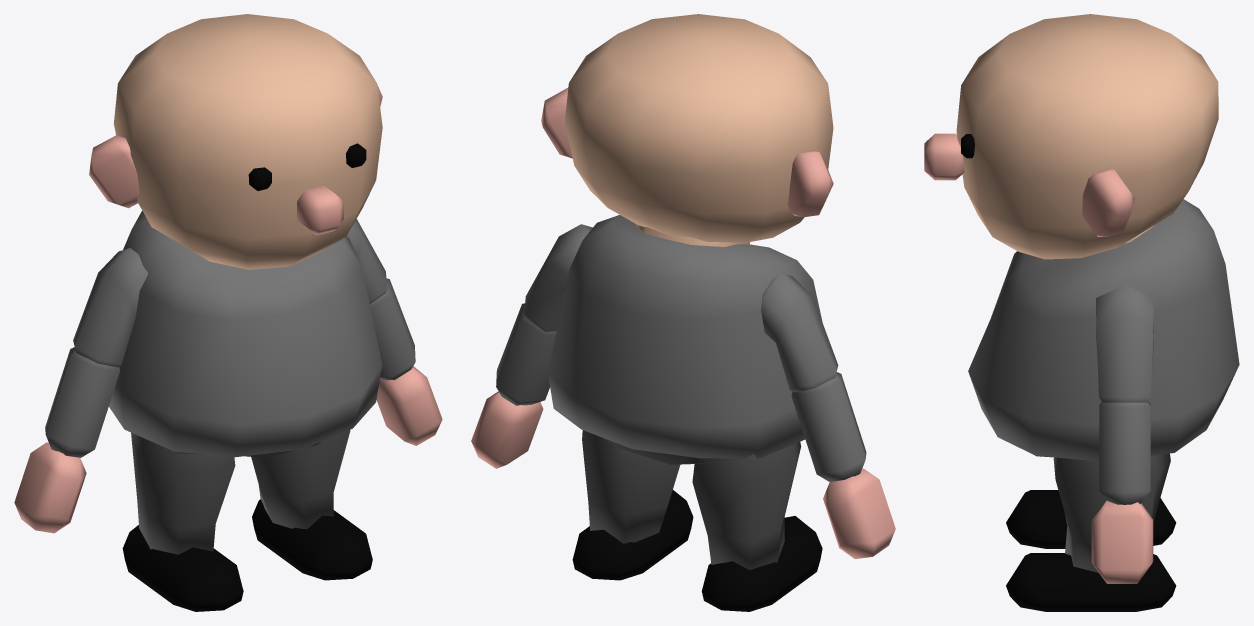
File: CHAR_01.fbx
The picture shows the model from 3 angles, left to right: view 1: azimuth 30°, elevation 25°; view 2: azimuth 150°, elevation 25°; view 3: azimuth 270°, elevation 25°; orthographic projection.
Parts seen in each view (by area): view 1: m_tete, m_tronc, m_jambe_D, m_jambe_G, m_pied_D, m_pied_G, m_bras_D, m_avantbras_D, m_main_D, m_main_G, m_avantbras_G, m_oreille_D (+2 smaller); view 2: m_tete, m_tronc, m_jambe_D, m_jambe_G, m_bras_D, m_pied_D, m_avantbras_D, m_pied_G, m_main_D, m_avantbras_G, m_main_G, m_bras_G (+4 smaller); view 3: m_tete, m_tronc, m_pied_G, m_bras_G, m_avantbras_G, m_jambe_G, m_main_G, m_pied_D, m_oreille_G, m_nez.
Boxes of the visible parts, box(x1,y1,x2,y2) form: m_tete: box(113, 14, 382, 269); m_tronc: box(109, 211, 382, 457); m_jambe_D: box(131, 432, 235, 554); m_jambe_G: box(251, 430, 350, 528); m_pied_D: box(122, 525, 243, 611); m_pied_G: box(252, 499, 372, 580); m_bras_D: box(73, 248, 147, 367); m_avantbras_D: box(45, 347, 119, 457); m_main_D: box(14, 442, 86, 533); m_main_G: box(376, 366, 442, 445); m_avantbras_G: box(370, 278, 415, 380); m_oreille_D: box(89, 135, 139, 208); m_tete: box(564, 14, 833, 242); m_tronc: box(548, 215, 822, 458); m_jambe_D: box(692, 442, 801, 570); m_jambe_G: box(582, 430, 680, 543); m_bras_D: box(761, 273, 838, 392); m_pied_D: box(701, 516, 822, 611); m_avantbras_D: box(791, 372, 866, 481); m_pied_G: box(572, 490, 693, 580); m_main_D: box(823, 468, 895, 558); m_avantbras_G: box(496, 303, 556, 405); m_main_G: box(471, 391, 543, 468); m_bras_G: box(524, 224, 592, 331); m_tete: box(956, 14, 1218, 259); m_tronc: box(968, 199, 1239, 461); m_pied_G: box(1006, 553, 1176, 611); m_bras_G: box(1096, 285, 1153, 402); m_avantbras_G: box(1099, 401, 1150, 504); m_jambe_G: box(1053, 453, 1170, 572); m_main_G: box(1091, 501, 1153, 583); m_pied_D: box(1006, 490, 1176, 548); m_oreille_G: box(1082, 169, 1134, 236); m_nez: box(924, 133, 964, 180).
Size of the model in its own units: 104 by 128 by 69.52.
